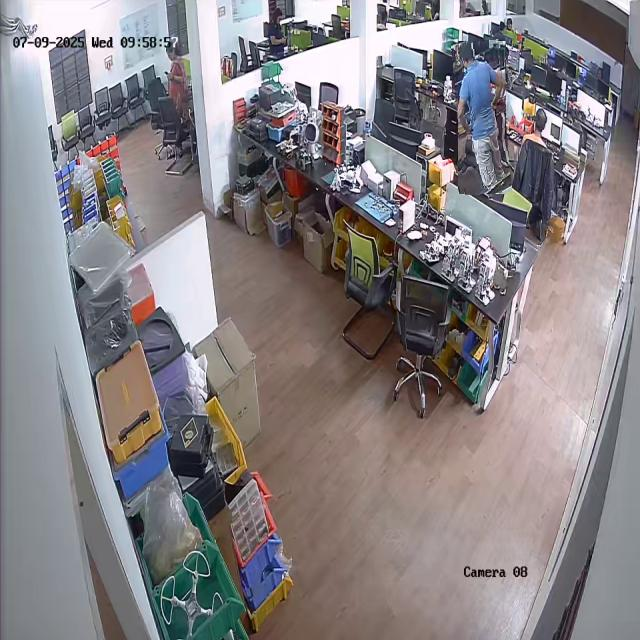person: (455, 40, 509, 195)
